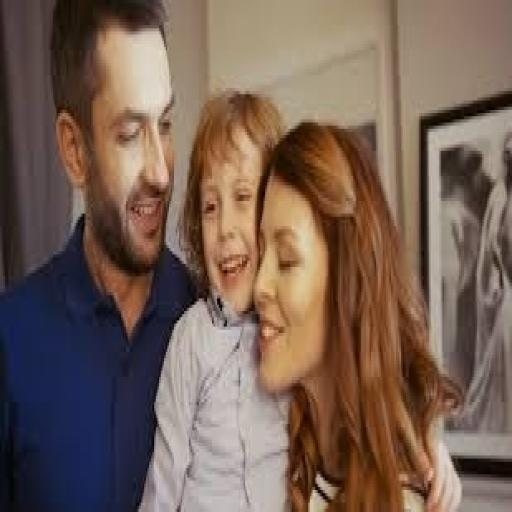hugging: (2, 0, 466, 509), (0, 0, 199, 509), (250, 116, 466, 509), (136, 85, 295, 509)
